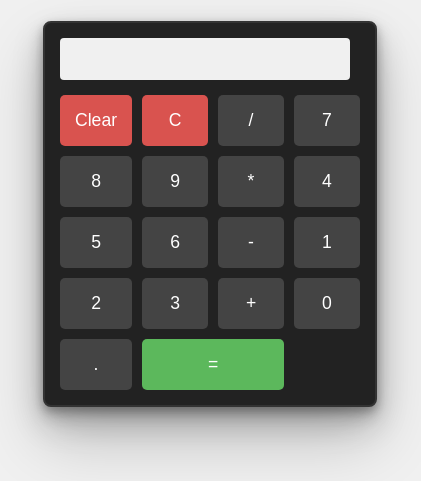
Test: Calculator E2E Tests › should perform subtraction correctly
The width and height of the screenshot is (421, 481).
Click the button with test id "num-2" at x=96, y=304, box top-left (60, 278), bottom-right (132, 329)
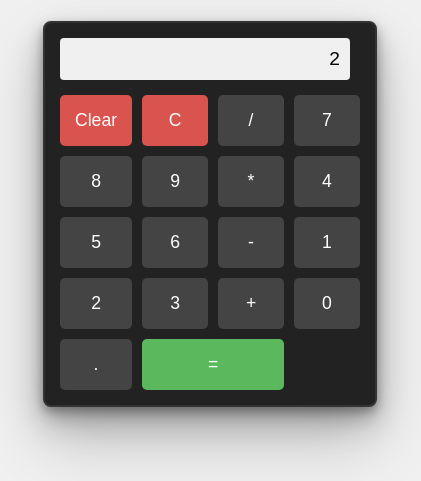
Click the button with test id "subtract" at x=251, y=243, box top-left (218, 217), bottom-right (284, 268)
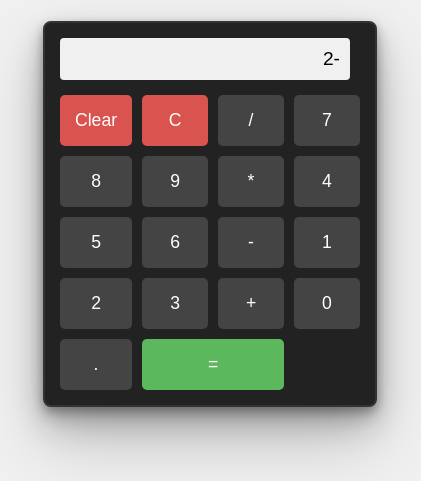
Click the button with test id "num-1" at x=327, y=243, box top-left (294, 217), bottom-right (360, 268)
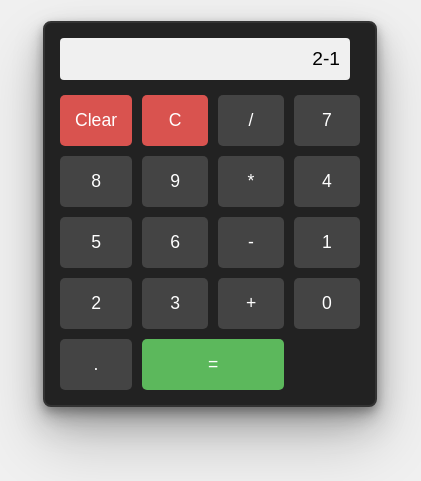
Click the button with test id "equals" at x=213, y=365, box top-left (142, 339), bottom-right (284, 390)
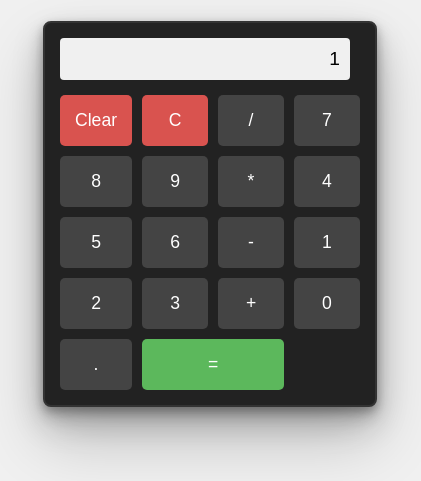
Now the field holds "1", box top-left (60, 38), bottom-right (350, 80)
